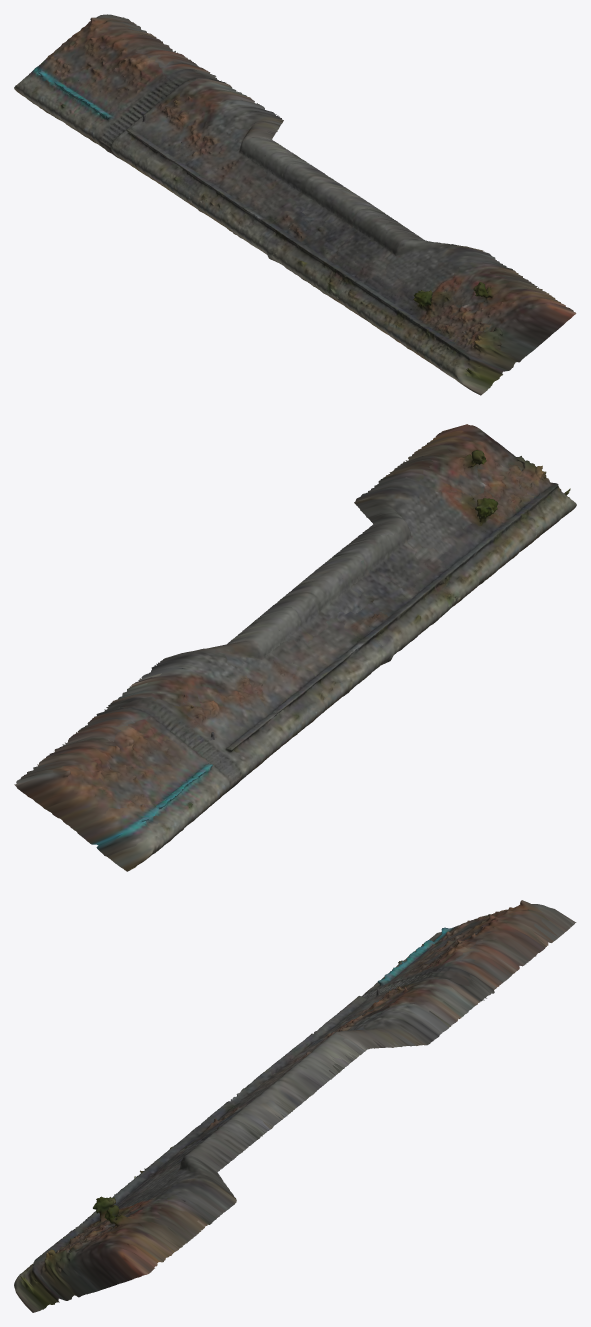
File: run4_p3_c5.glb
3 views of the same model, one above another, from view 1: azimuth 30°, elevation 25°; view 2: azimuth 150°, elevation 25°; view 3: azimuth 330°, elevation 25° (orthographic). The views are drawn at different scales.
Visible parts, largest first — view 1: run4_p3_straight_c5; view 2: run4_p3_straight_c5; view 3: run4_p3_straight_c5.
Part boxes in pixels (x1,y1,x2,y2): run4_p3_straight_c5: [14, 14, 576, 395]; run4_p3_straight_c5: [14, 424, 576, 871]; run4_p3_straight_c5: [14, 900, 576, 1312].
Bounding box in the file's own units: 8.41 × 4.17 × 40.23.
1 material, 1 textured.
